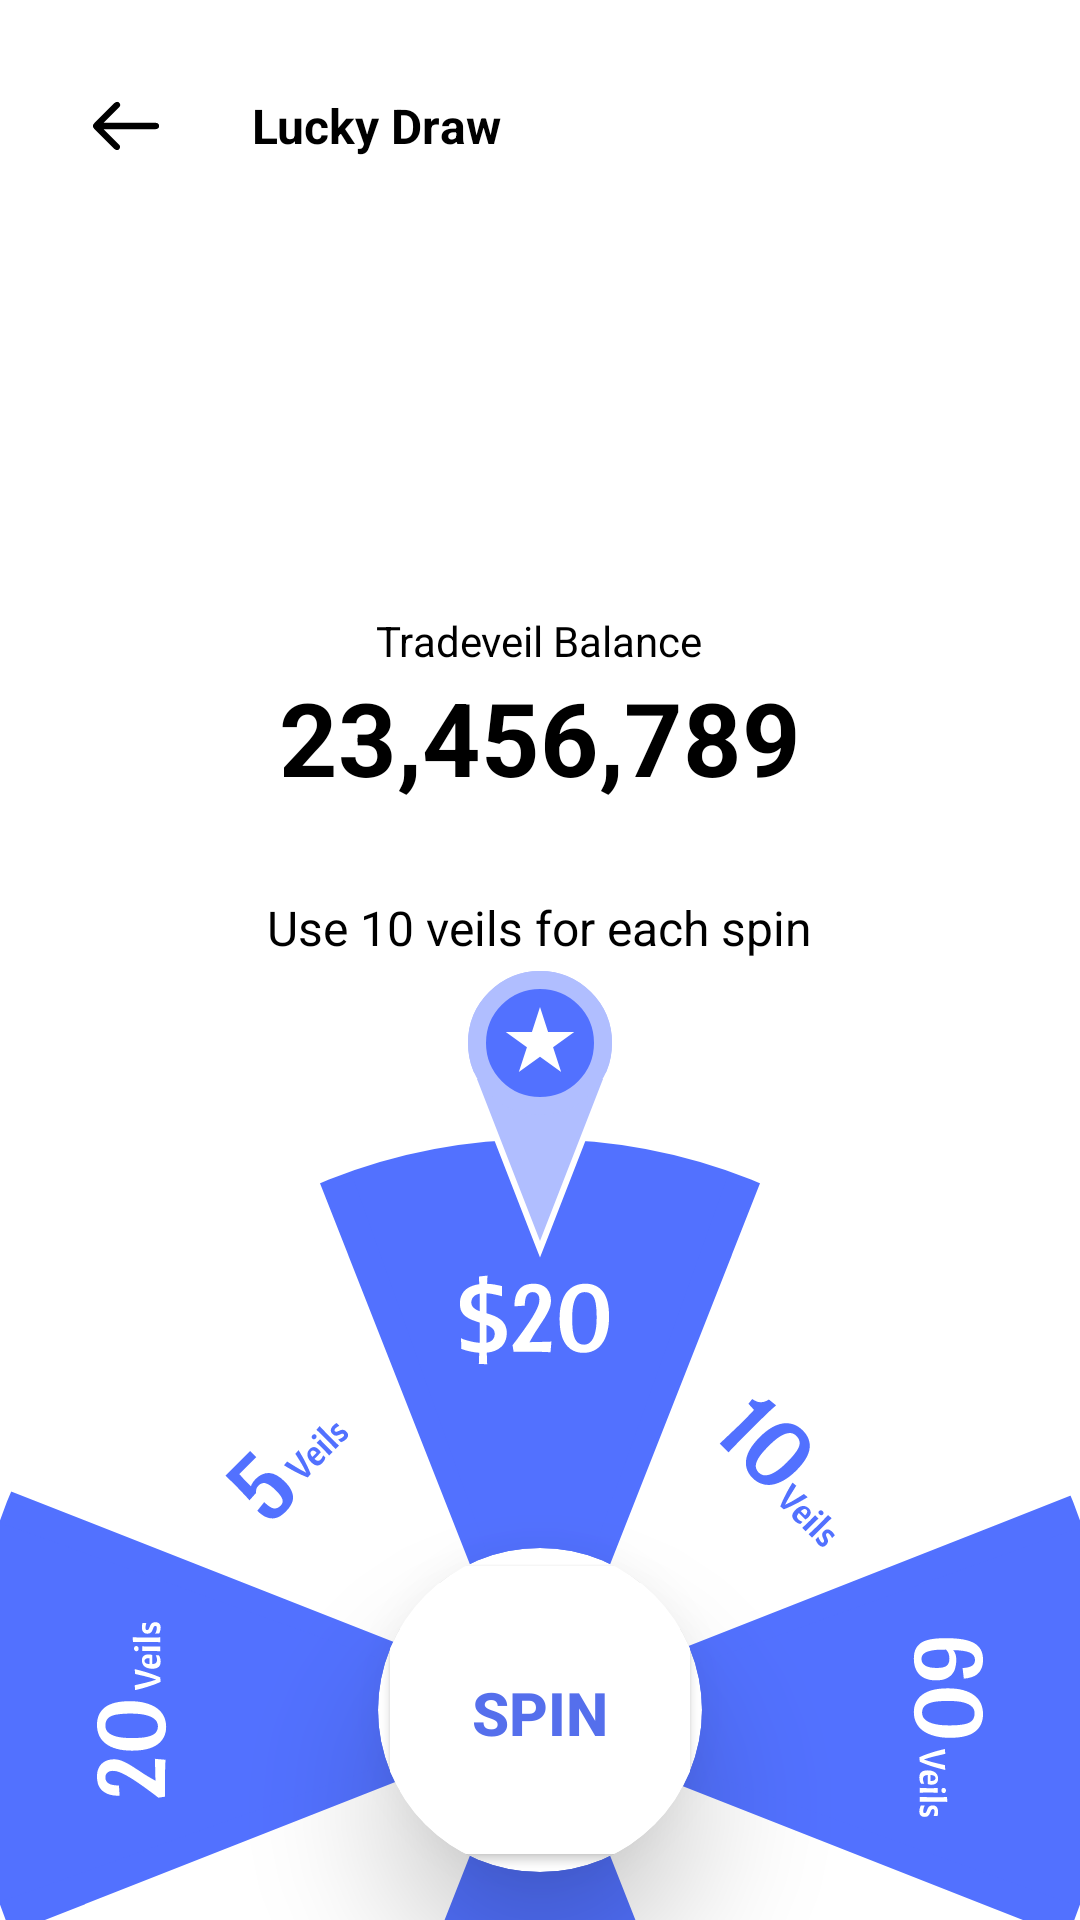

Screen size 1080 x 1920. Icon name, then its box in pixels as (x1=x1, y1=y1, x2=x2, y2=y2):
back: (x1=93, y1=102, x2=159, y2=150)
